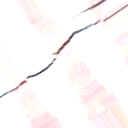crackTip: (1, 1, 128, 99)
